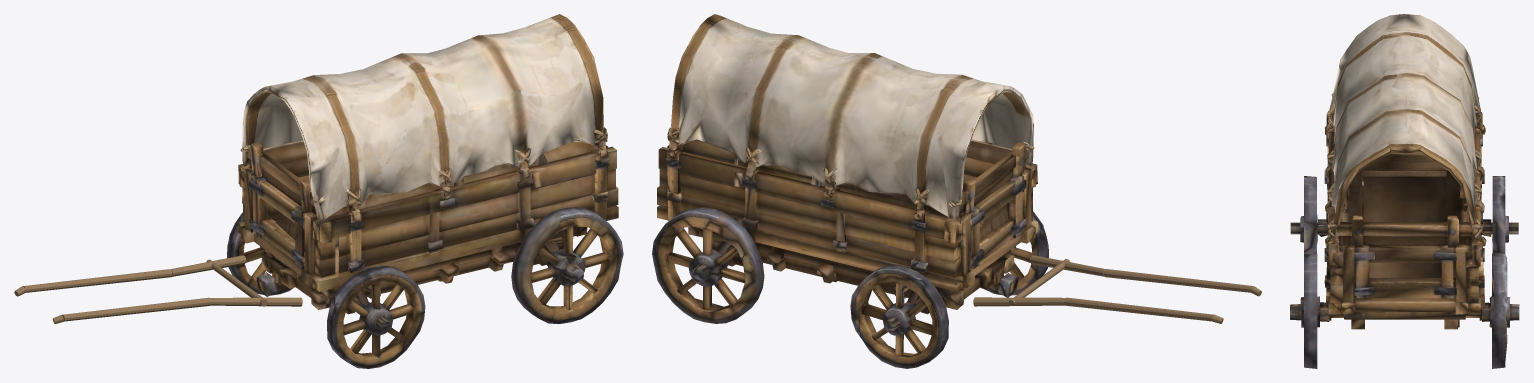
Rendered from covered-wagon-shafts.glb.
3 renders of one model, left to right at view 1: azimuth 30°, elevation 25°; view 2: azimuth 150°, elevation 25°; view 3: azimuth 270°, elevation 25°, orthographic. The views are drawn at different scales.
Visible parts, largest first — view 1: covered_wagon; view 2: covered_wagon; view 3: covered_wagon.
Boxes of the visible parts, bbox=[...] form: covered_wagon: bbox=[14, 14, 623, 368]; covered_wagon: bbox=[652, 14, 1261, 368]; covered_wagon: bbox=[1290, 14, 1519, 368].
Bounding box in the file's own units: 6.76 × 3 × 2.61.
2 materials, 1 textured.
